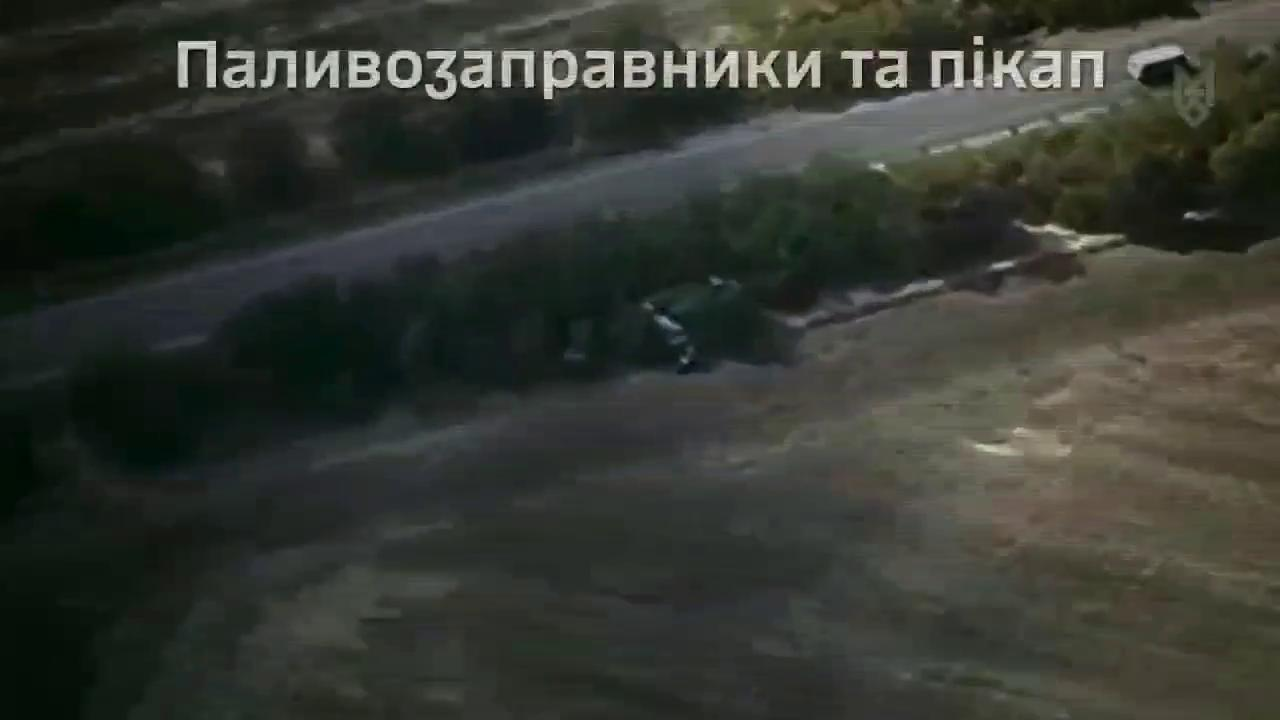tank: (630, 267, 773, 377)
